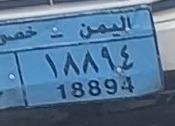number: (16, 34, 162, 107)
text: (0, 8, 154, 52)
